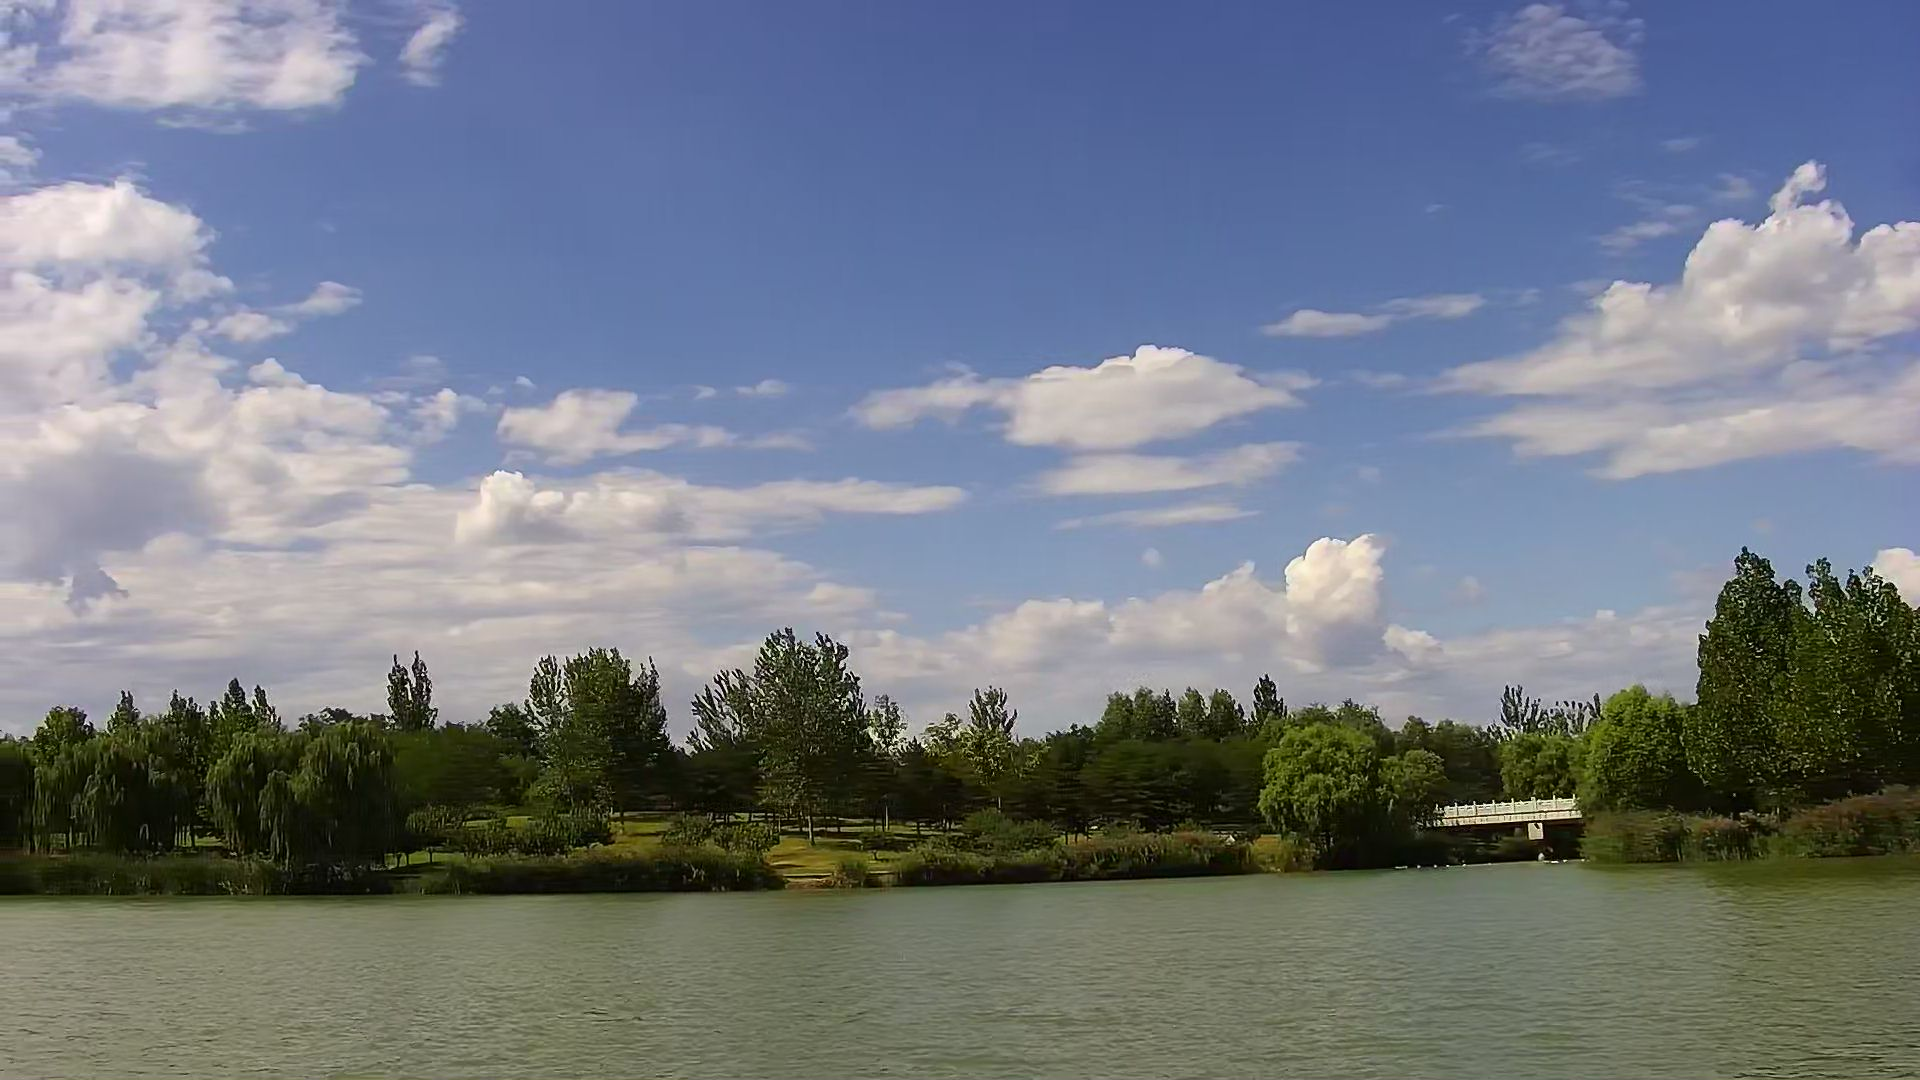bridge: (1439, 796, 1578, 868)
